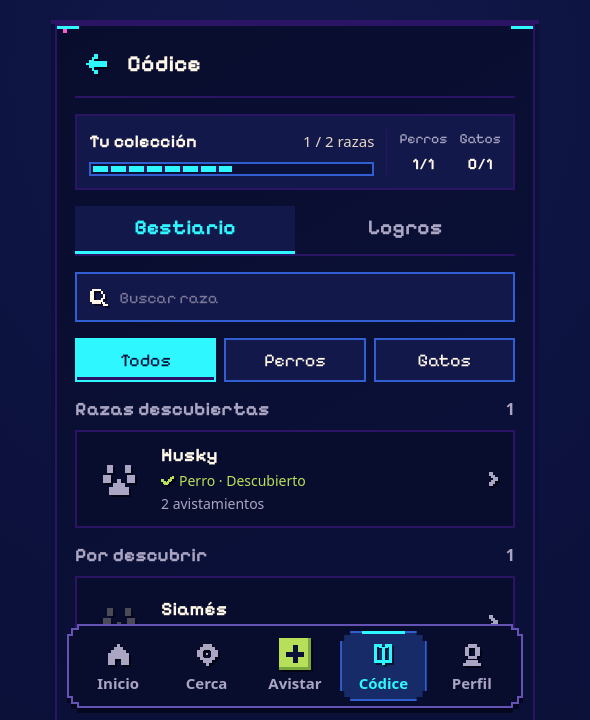
Test: filters species and searches accents while preserving breed detail links
Step 1. Click the button "Gatos" → (444, 360), box [374,338,515,382]
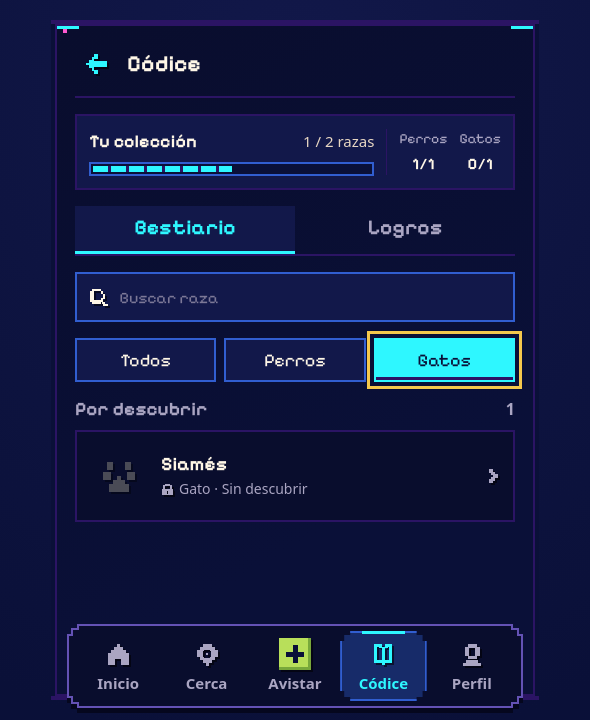
Expected: the link "Husky" is gone
Step 2. Type "siames" into the search field → (309, 297), box [118,274,501,320]
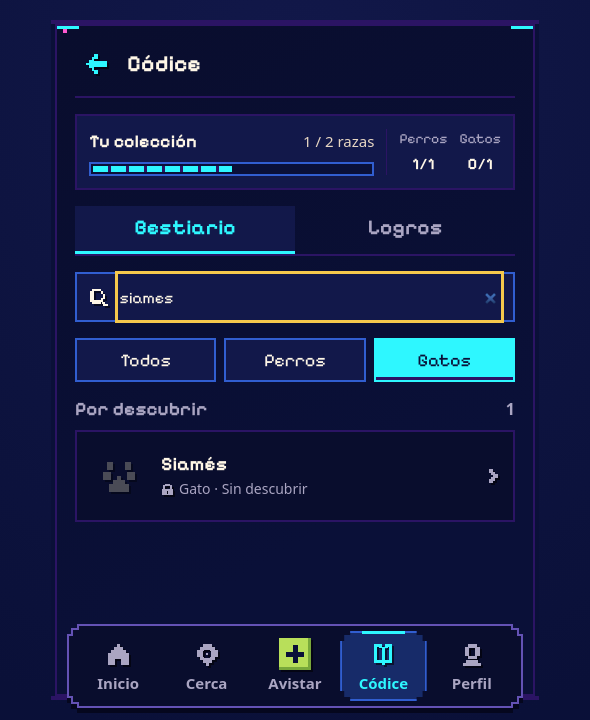
Expected: the link "Siamés Gato · Sin descubrir" is shown, [103,453,501,498]
Step 3. Type "xxx" into the search field → (309, 297), box [118,274,501,320]
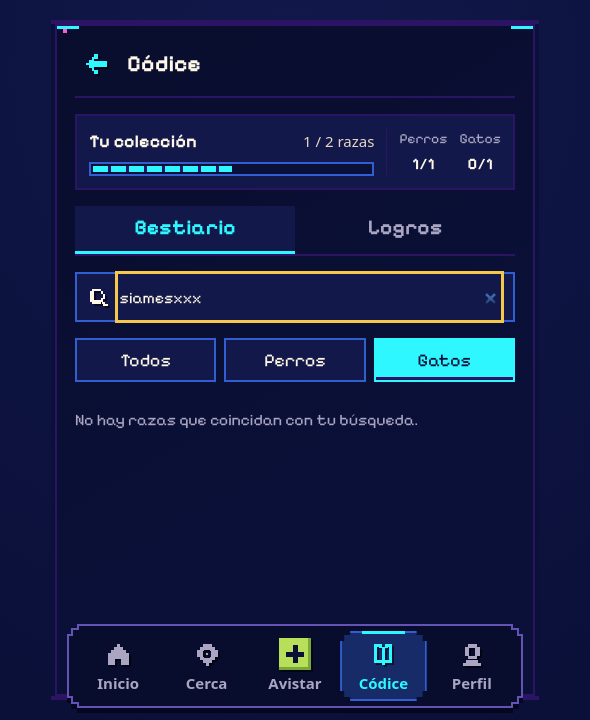
Expected: the text "No hay razas que coincidan con tu búsqueda." is shown, [75,410,418,429]
